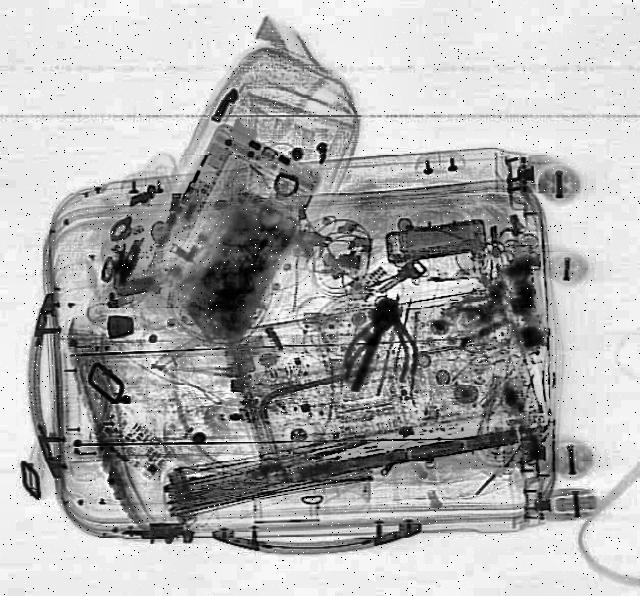Pliers: (334, 302, 422, 390), (342, 308, 420, 384)
